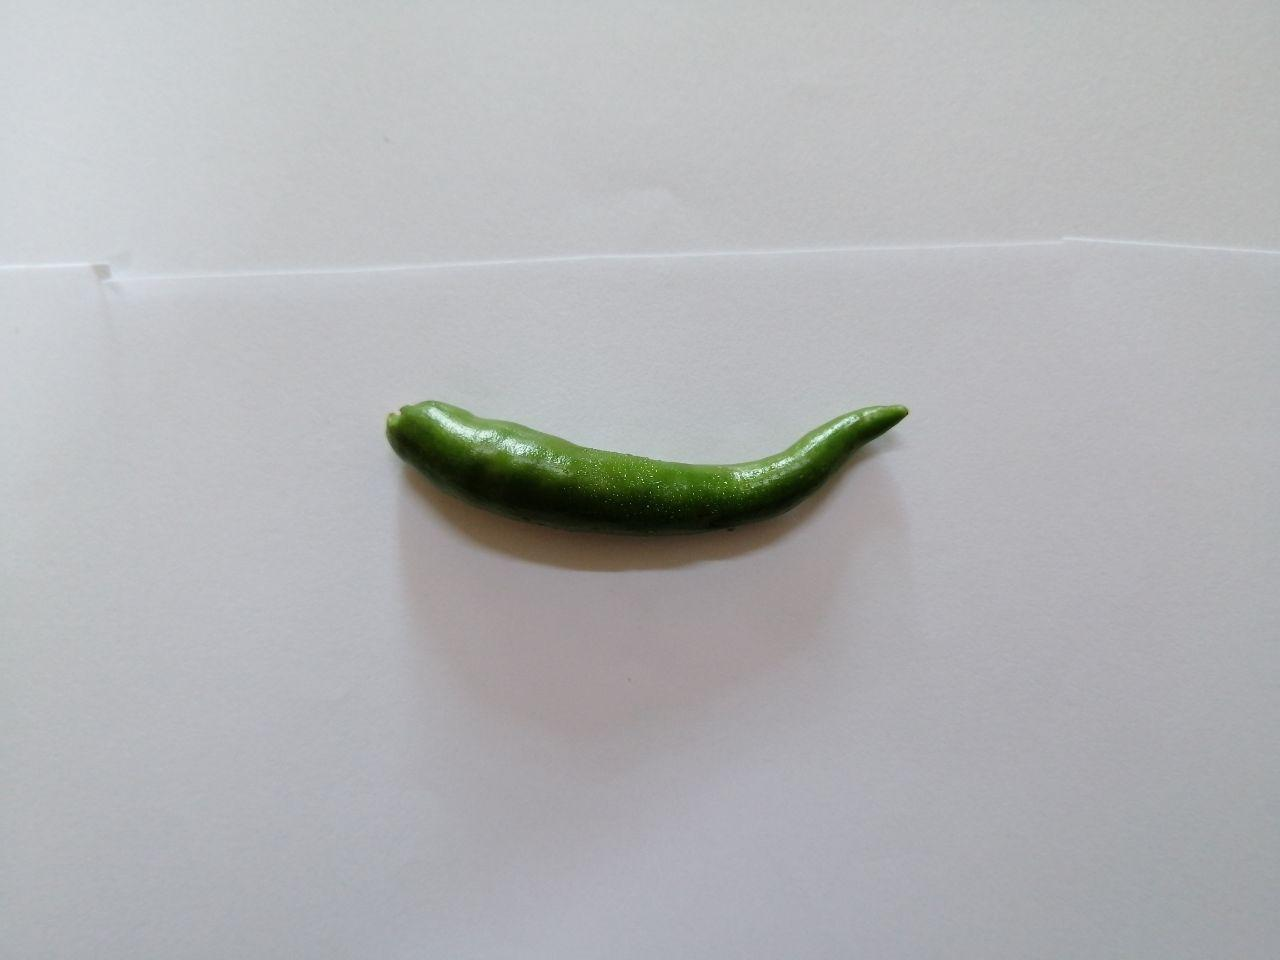lada hijau: (358, 344, 933, 589)
